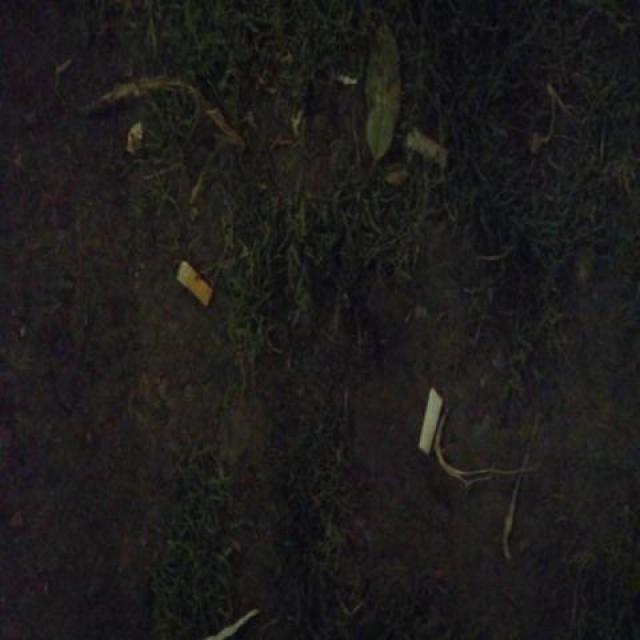non-organic waste: (402, 122, 454, 179), (171, 254, 217, 311), (414, 382, 446, 457)
